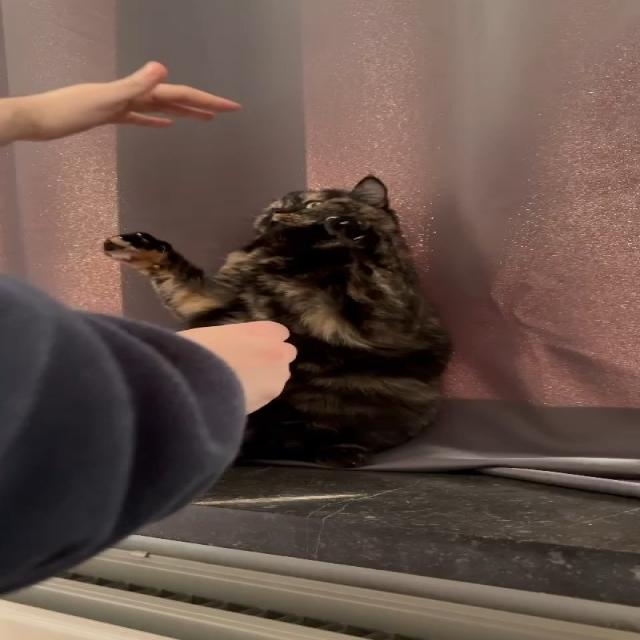authorized: (101, 174, 455, 468)
